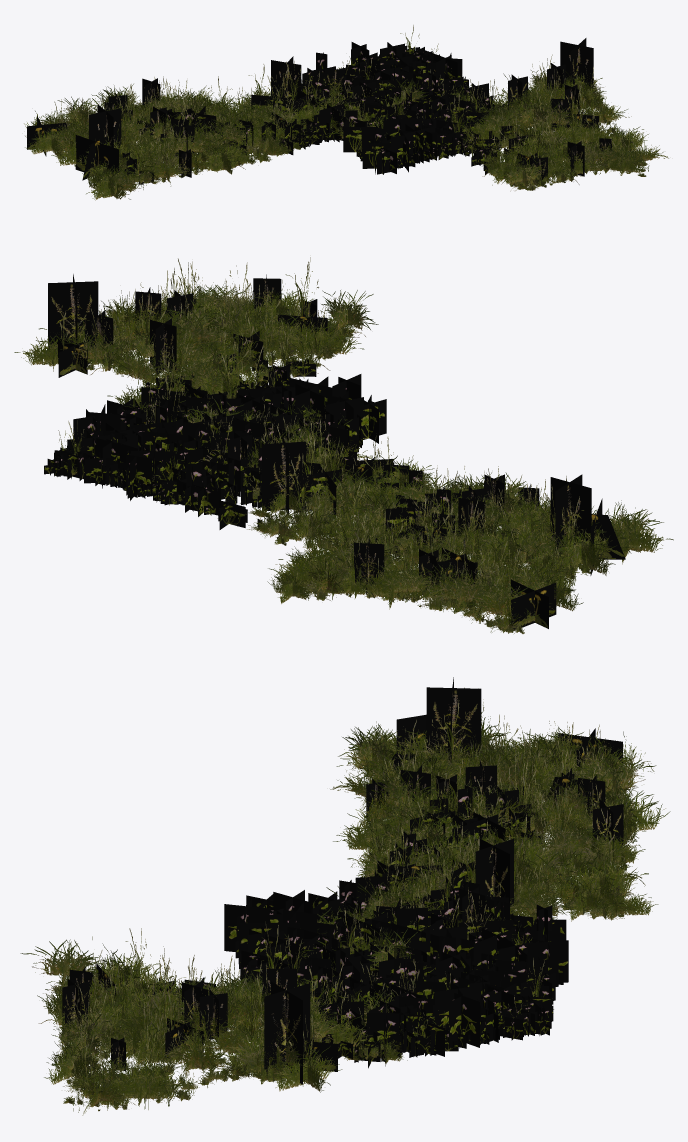
File: world_plants_entrance_pit_v018.fbx
3 renders of one model, top to bottom at view 1: azimuth 30°, elevation 25°; view 2: azimuth 150°, elevation 25°; view 3: azimuth 270°, elevation 25°, orthographic. The views are drawn at different scales.
Visible parts, largest first — view 1: terrarium_pit_grass_LOD1, terrarium_pit_sorrel_LOD1, terrarium_pit_shrub_LOD1, terrarium_pit_dandelion_LOD2; view 2: terrarium_pit_grass_LOD1, terrarium_pit_sorrel_LOD1, terrarium_pit_shrub_LOD1, terrarium_pit_dandelion_LOD2; view 3: terrarium_pit_grass_LOD1, terrarium_pit_sorrel_LOD1, terrarium_pit_shrub_LOD1, terrarium_pit_dandelion_LOD2.
Part boxes in pixels (x1=…): terrarium_pit_grass_LOD1: x1=24, y1=25, x2=668, y2=200; terrarium_pit_sorrel_LOD1: x1=114, y1=42, x2=532, y2=184; terrarium_pit_shrub_LOD1: x1=89, y1=38, x2=611, y2=179; terrarium_pit_dandelion_LOD2: x1=27, y1=106, x2=598, y2=180; terrarium_pit_grass_LOD1: x1=14, y1=257, x2=673, y2=633; terrarium_pit_sorrel_LOD1: x1=44, y1=331, x2=484, y2=558; terrarium_pit_shrub_LOD1: x1=48, y1=274, x2=591, y2=594; terrarium_pit_dandelion_LOD2: x1=55, y1=309, x2=625, y2=629; terrarium_pit_grass_LOD1: x1=20, y1=687, x2=670, y2=1115; terrarium_pit_sorrel_LOD1: x1=152, y1=750, x2=568, y2=1068; terrarium_pit_shrub_LOD1: x1=62, y1=677, x2=623, y2=1084; terrarium_pit_dandelion_LOD2: x1=96, y1=714, x2=622, y2=1080.
Bounding box in the file's own units: 1212 × 207 × 921.
4 materials, 4 textured.
